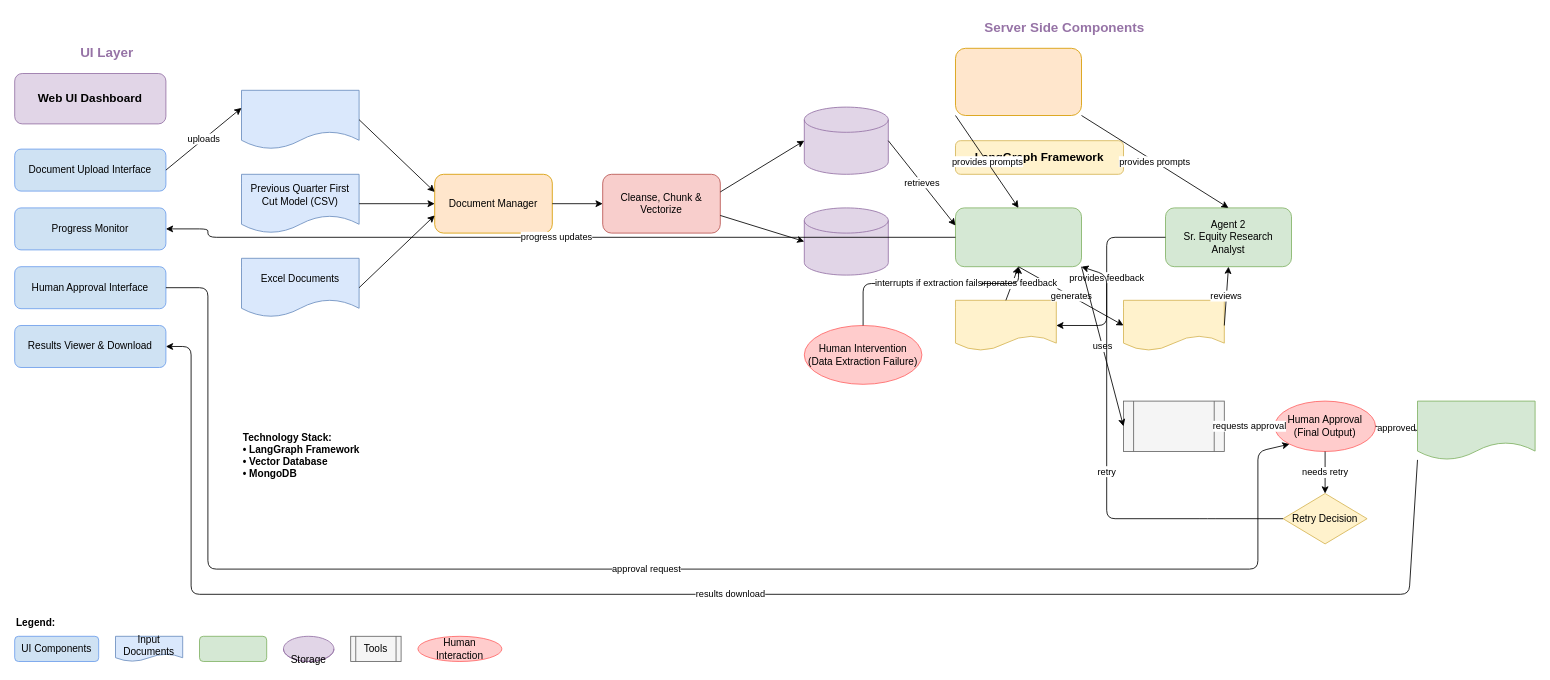
The diagram is 1550 pixels wide and 680 high, and some of its shapes have lost their labels. Each missing label, with the box of its shape:
Agent 1 Equity Research Analyst: (955, 207, 1082, 267)
Agents: (199, 635, 267, 662)
Constructive Feedback: (955, 299, 1056, 351)
Draft Model: (1123, 299, 1224, 351)
File Writer Tool: (1123, 400, 1224, 452)
Final First Cut Model (CSV): (1417, 400, 1535, 460)
MongoDB (Document Storage): (803, 207, 888, 275)
Prompt Manager (Parameterized Prompts by Report Type): (955, 47, 1082, 116)
Quarterly Earnings Report (PDF): (241, 89, 359, 149)
Vector DB: (803, 106, 888, 174)
